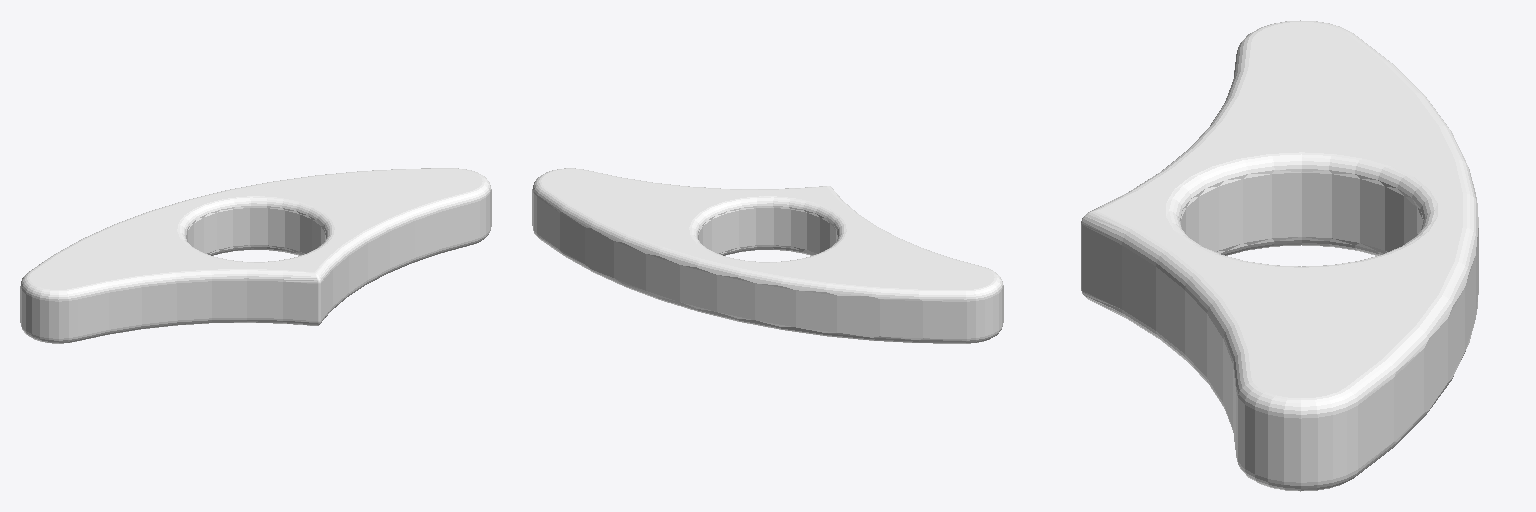
The robot description file, URDF, robot "bookmark2":
<?xml version="1.0" ?>
<robot name="bookmark2">
  <link name="baseLink">
    <contact>
      <lateral_friction value="1.0"/>
      <rolling_friction value="0.1"/>
      <contact_cfm value="1.0"/>
      <contact_erp value="1.0"/>
    </contact>
    <inertial>
      <origin rpy="0 0 0" xyz="0 0 0"/>
      <mass value="1.0"/>
       <inertia ixx="1" ixy="0" ixz="0" iyy="1" iyz="0" izz="1"/>
    </inertial>
    <visual>
      <origin rpy="0 0 0" xyz="0 0 0"/>
      <geometry>
	      <mesh filename="bookmark2.obj" scale="1.0 1.0 1.0"/>
      </geometry>
       <material name="white">
        <color rgba="1 1 1 1"/>
      </material>
    </visual>
    <collision>
      <origin rpy="0 0 0" xyz="0 0 0"/>
      <geometry>
	 	<mesh filename="bookmark2.obj" scale="1.0 1.0 1.0"/>
      </geometry>
    </collision>
  </link>
</robot>

--- Facts derived from the render (not from the file) ---
The picture shows the robot from 3 angles, left to right: view 1: azimuth 30°, elevation 25°; view 2: azimuth 150°, elevation 25°; view 3: azimuth 270°, elevation 25°; orthographic projection.
Model bookmark2 with 1 links and 0 joints (none), rooted at baseLink, posed every joint at zero.
Visible links, largest first — view 1: baseLink; view 2: baseLink; view 3: baseLink.
Link boxes in pixels (x1,y1,x2,y2): baseLink: (20,168,491,343); baseLink: (532,168,1003,343); baseLink: (1081,20,1478,491).
Size in the robot's own frame: 91 by 39.31 by 10 metres.
1 mesh visuals loaded from 1 distinct referenced files (1 OBJ).